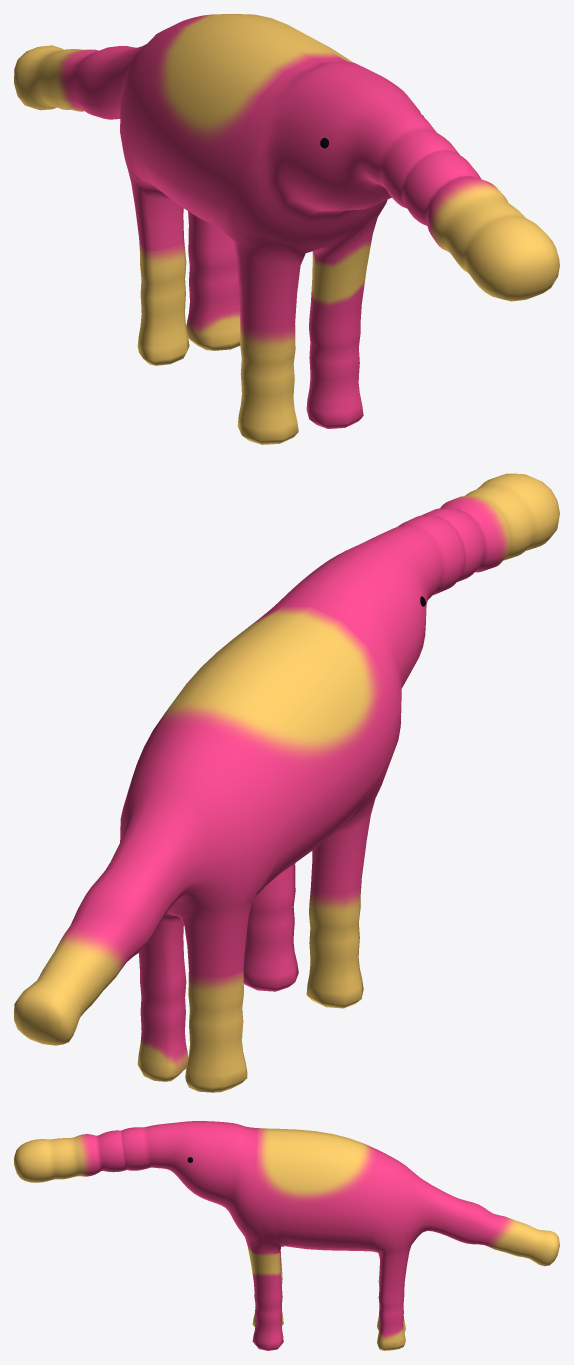
The model's file is gummy_elephant.fbx.
3 renders of one model, top to bottom at view 1: azimuth 30°, elevation 25°; view 2: azimuth 150°, elevation 25°; view 3: azimuth 270°, elevation 25°, orthographic. The views are drawn at different scales.
Visible parts, largest first — view 1: gummy_elephant; view 2: gummy_elephant; view 3: gummy_elephant.
Boxes of the visible parts, x1,y1,x2,y2 form: gummy_elephant: (14,14,559,444); gummy_elephant: (14,473,559,1092); gummy_elephant: (14,1121,559,1350).
Bounding box in the file's own units: 41.27 × 90.36 × 207.
Materials: 1 (1 with a texture image).
